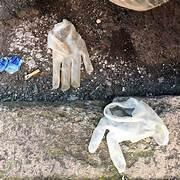Glove: (88, 98, 168, 172), (48, 19, 92, 90), (110, 0, 168, 10)
